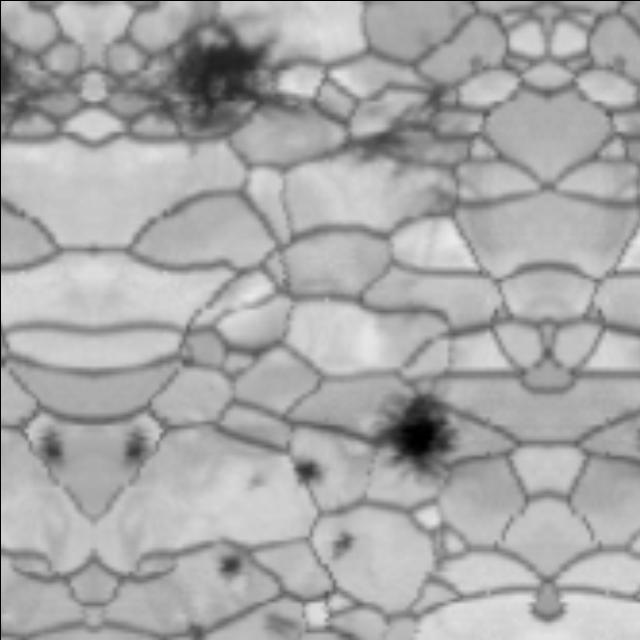good_void: (139, 0, 277, 155), (360, 384, 467, 482), (332, 89, 444, 179), (0, 12, 45, 155), (410, 177, 494, 233), (600, 177, 640, 233), (289, 453, 327, 490), (238, 460, 275, 498), (120, 423, 146, 470), (38, 423, 64, 470), (215, 548, 254, 577), (328, 525, 359, 556), (175, 617, 214, 640)
